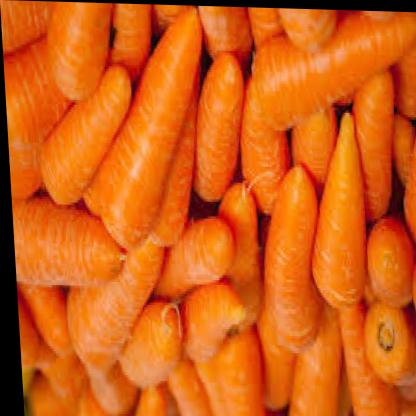Organic: (0, 1, 416, 416)
